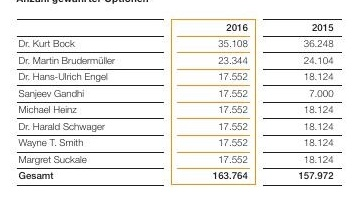table: (0, 0, 364, 202)
